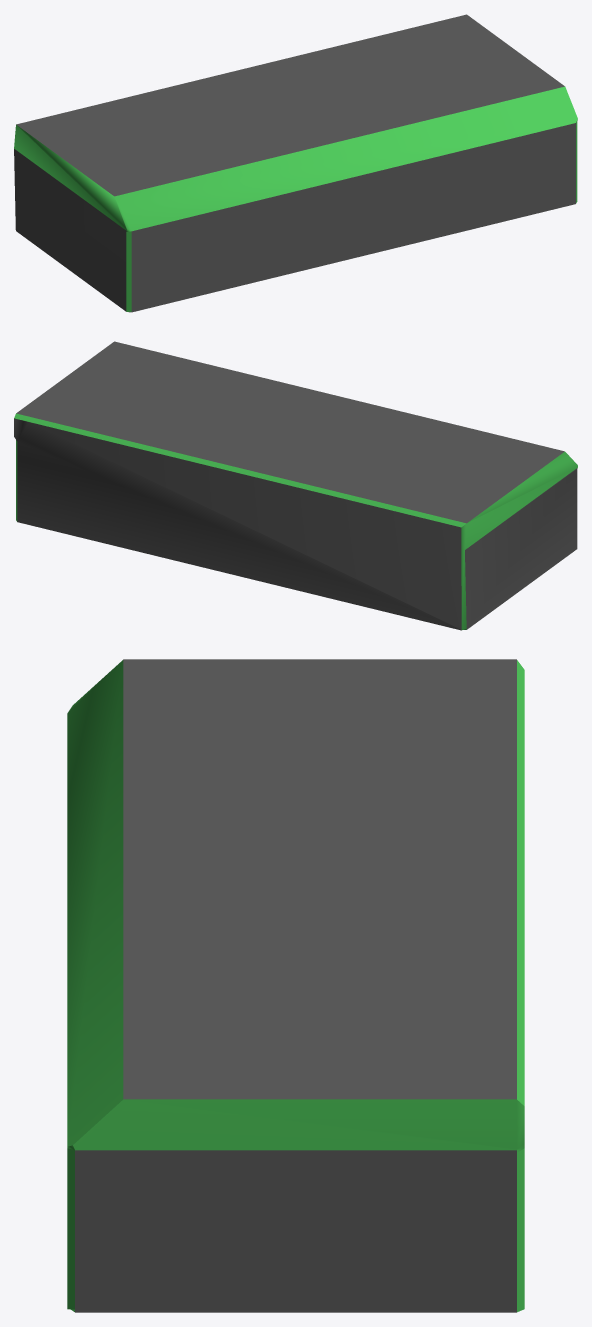
The model's file is Stairs01.fbx.
3 renders of one model, top to bottom at view 1: azimuth 30°, elevation 25°; view 2: azimuth 150°, elevation 25°; view 3: azimuth 270°, elevation 25°, orthographic. The views are drawn at different scales.
Parts seen in each view (by area): view 1: Cube_1; view 2: Cube_1; view 3: Cube_1.
Part boxes in pixels (x1,y1,x2,y2): Cube_1: (14,14,577,312); Cube_1: (14,341,577,630); Cube_1: (67,659,524,1312).
Bounding box in the file's own units: 456 × 103 × 200.
